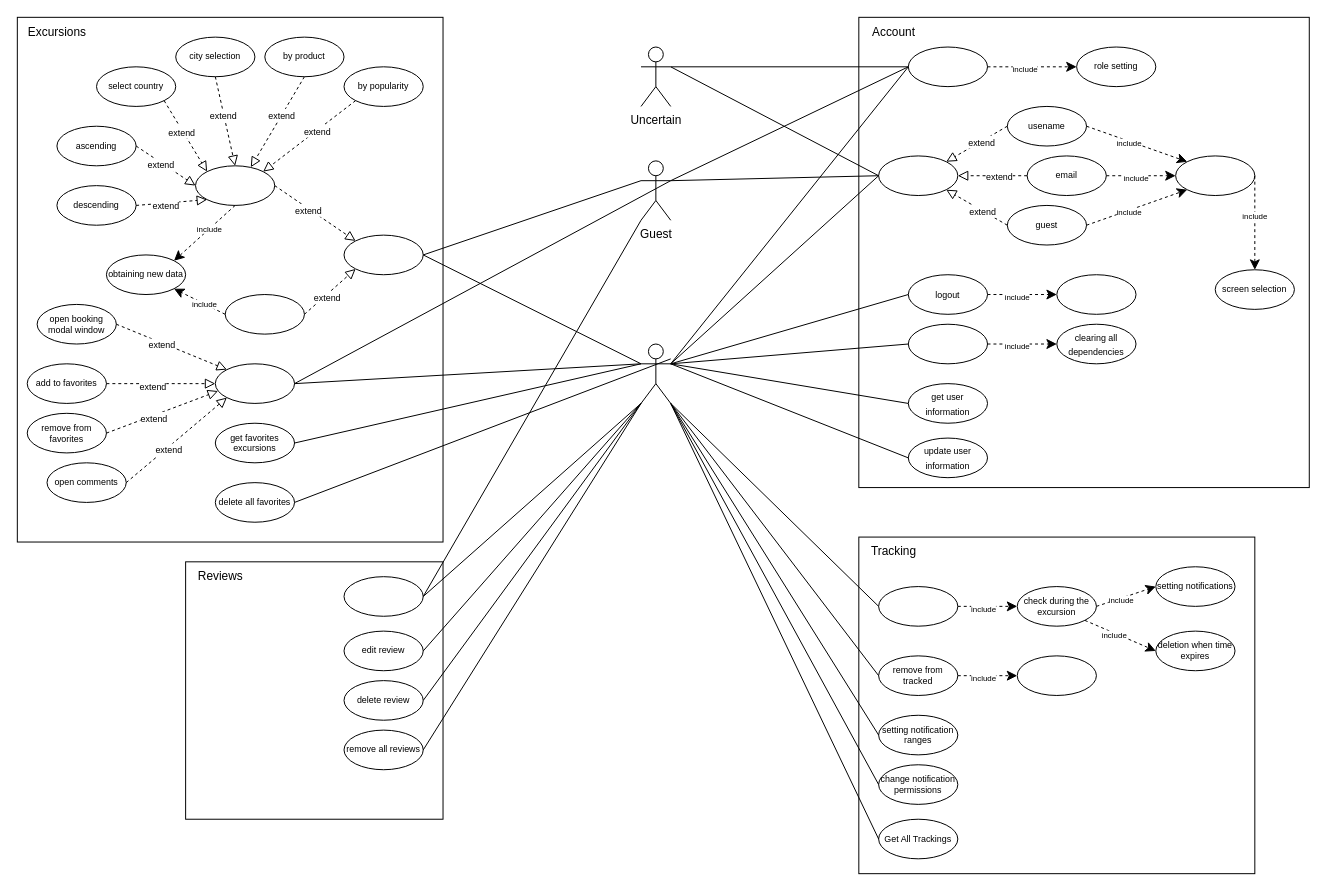
The diagram is 1327 pixels wide and 891 high, and some of its shapes have lost their labels. The shapes that lost their labels are listed below. From the top down, each one's centre as x and y in pixels, then its label:
At [947,66]: "registration".
At [235,185]: "filter excursions".
At [918,175]: "authorization".
At [1215,175]: "role check".
At [383,254]: "get excursions".
At [264,314]: "pagination".
At [1096,294]: "session check".
At [947,343]: "delete account".
At [254,383]: "get information about the tour".
At [655,373]: "User".
At [383,596]: "get all reviews".
At [918,606]: "add to tracking".
At [1056,675]: "clear notifications".
